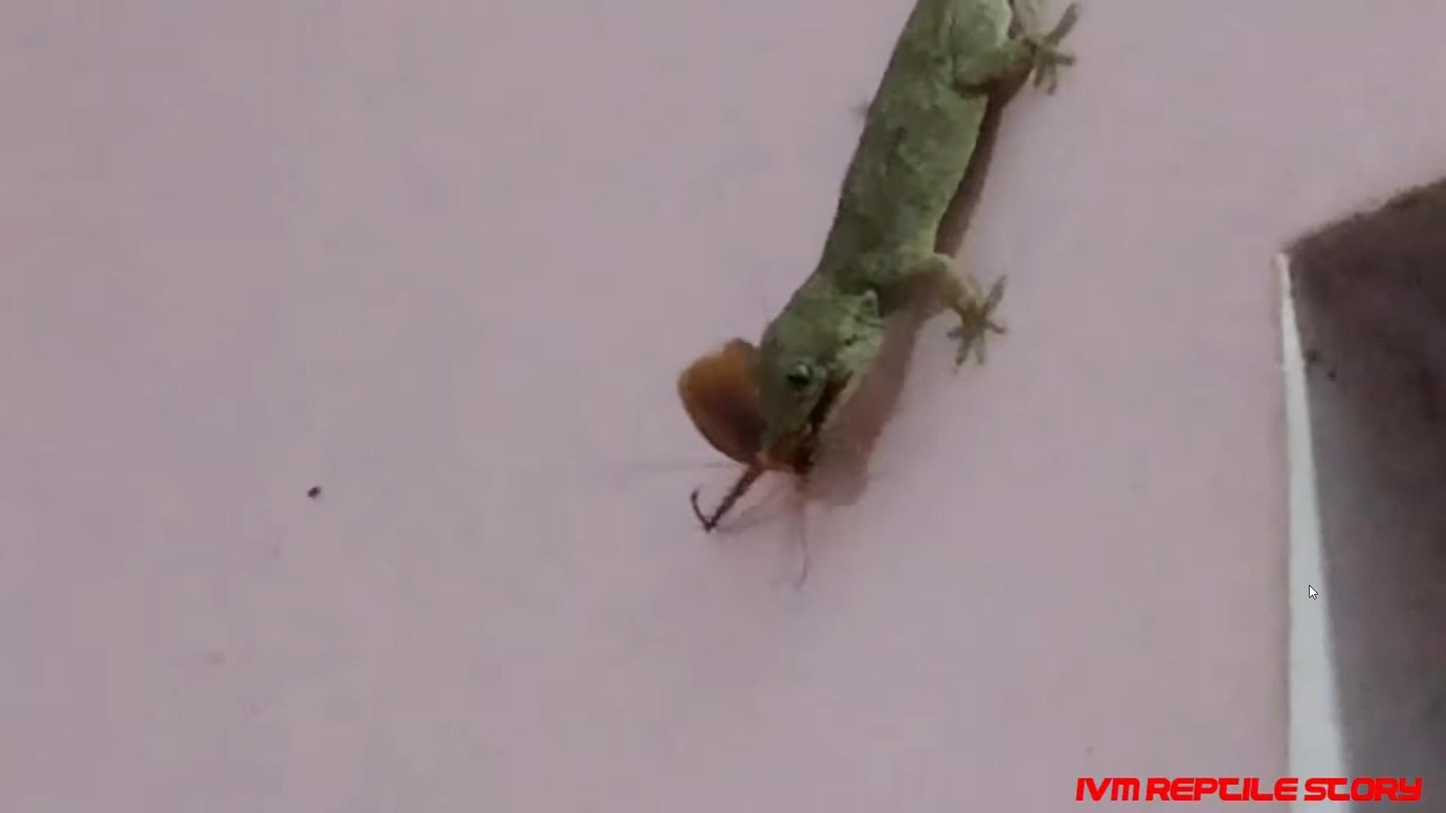cockroach: (664, 342, 809, 506)
lizard: (769, 13, 1026, 427)
